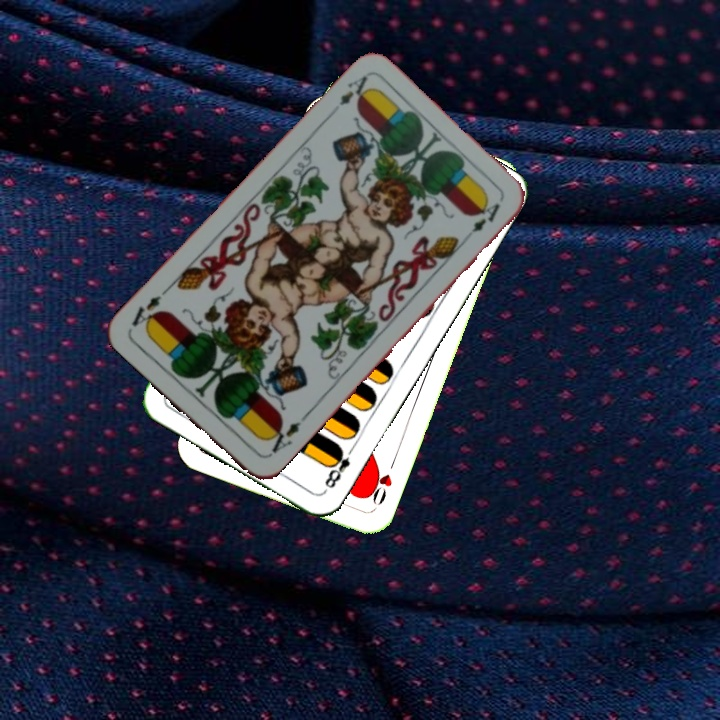E8: (320, 441, 357, 491)
EA: (261, 417, 304, 460), (335, 71, 374, 109)
HO: (363, 455, 399, 508)
